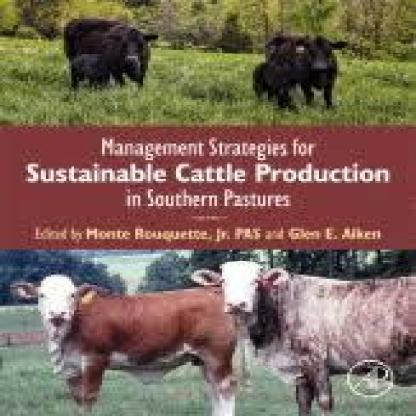cow: (189, 260, 416, 416), (13, 274, 240, 416), (64, 20, 156, 86), (270, 34, 350, 107), (254, 61, 300, 107), (69, 54, 107, 85)
